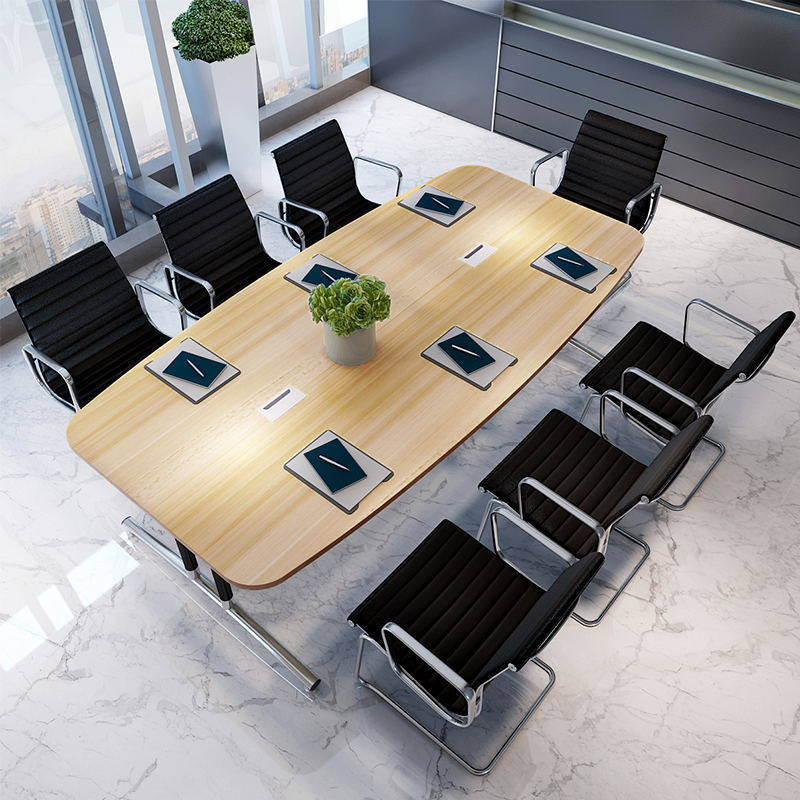conference_table: (65, 166, 645, 704)
